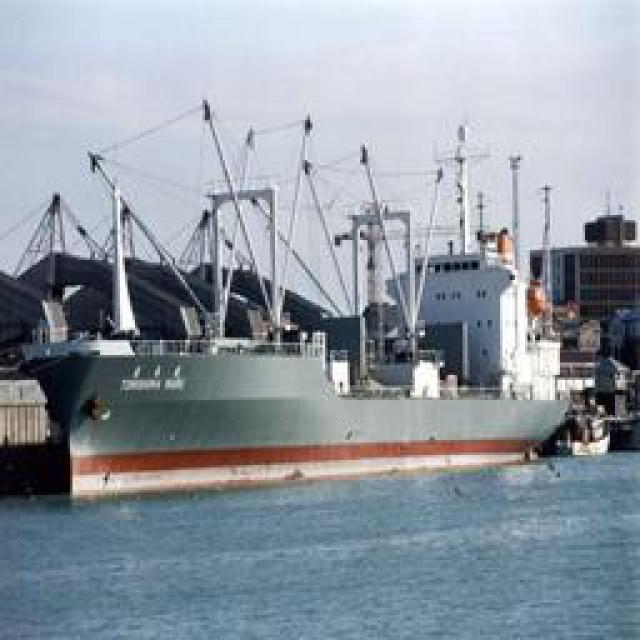Ship: (13, 78, 598, 496)
